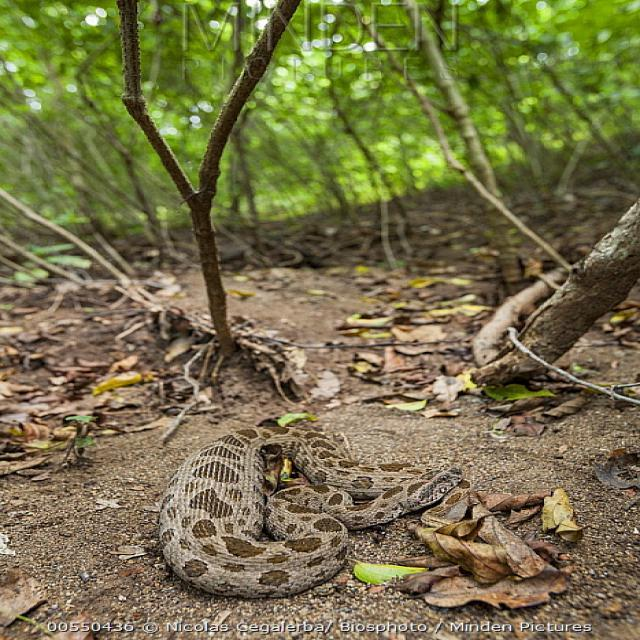Snake: (149, 418, 463, 604)
